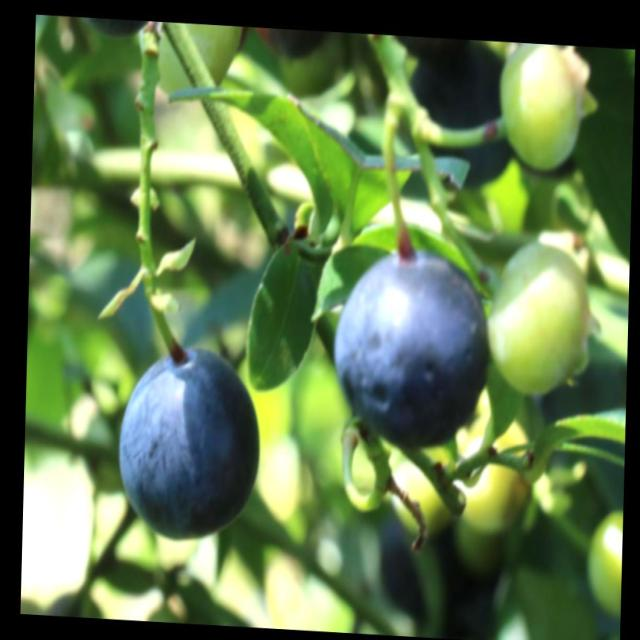blueberry: (334, 244, 494, 452), (114, 340, 260, 543)
blueberry-unripe: (487, 238, 592, 403), (496, 45, 591, 179), (584, 504, 622, 620)
